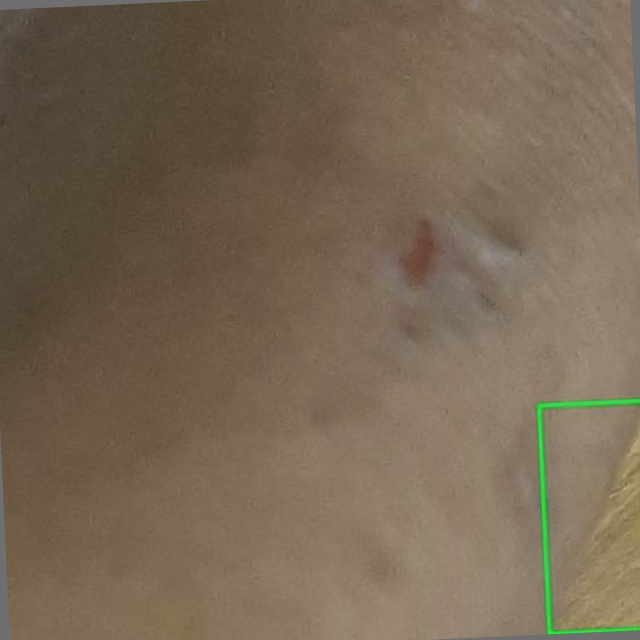Atopic Dermatitis: (539, 401, 639, 633)
